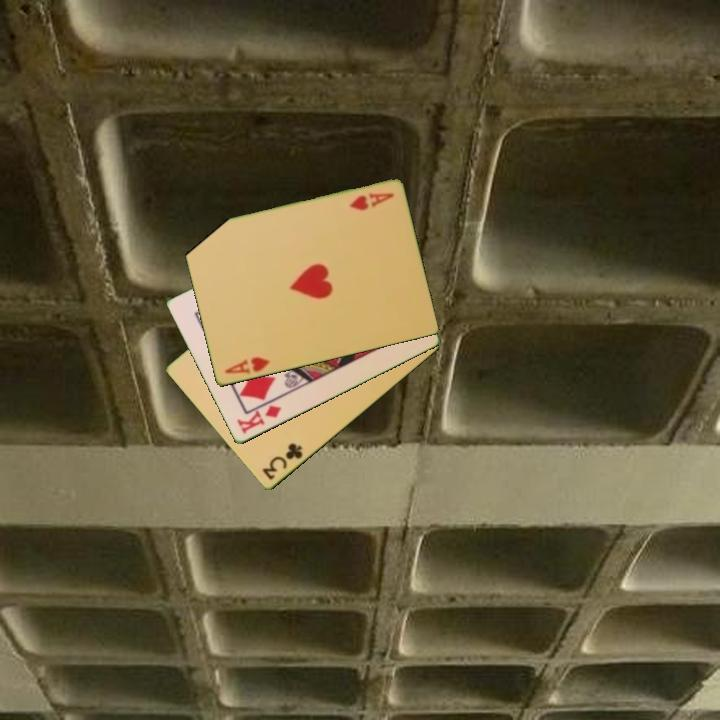3c: (258, 440, 306, 483)
Ah: (346, 189, 396, 213), (221, 354, 273, 377)
Kd: (234, 402, 284, 437)
